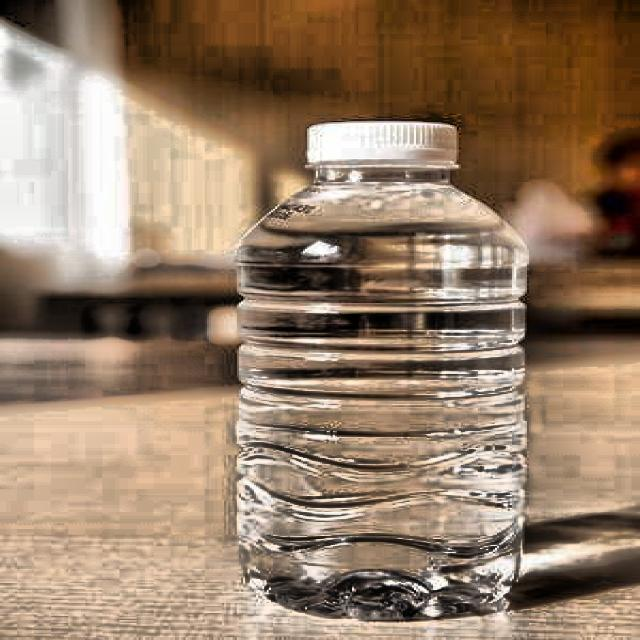Bottles: (229, 112, 547, 627)
